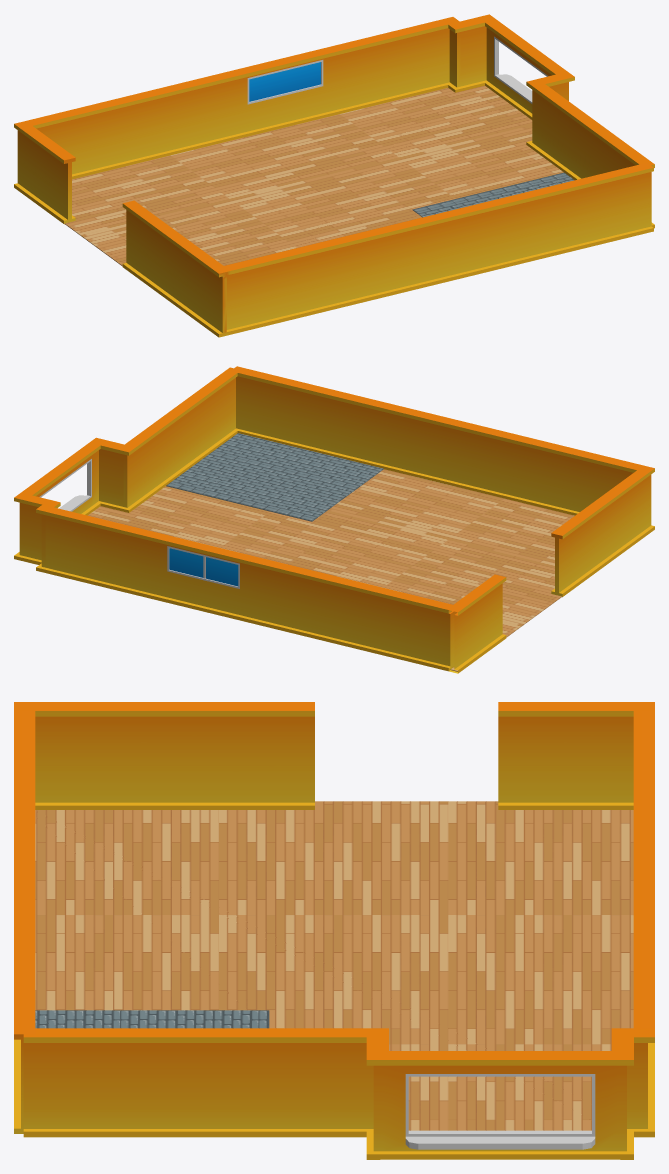
The model's file is Wall01.fbx.
3 renders of one model, top to bottom at view 1: azimuth 30°, elevation 25°; view 2: azimuth 150°, elevation 25°; view 3: azimuth 270°, elevation 25°, orthographic. The views are drawn at different scales.
Parts seen in each view (by area): view 1: polySurface2, polySurface1, Box001; view 2: polySurface2, polySurface1, Box001; view 3: polySurface2, polySurface1, Box001.
Part boxes in pixels (x1,y1,x2,y2): polySurface2: (14,14,654,337); polySurface1: (218,163,653,335); Box001: (412,172,574,217); polySurface2: (14,367,654,673); polySurface1: (231,366,648,515); Box001: (166,433,383,521); polySurface2: (14,702,654,1159); polySurface1: (14,706,35,1133); Box001: (35,1010,269,1028).
Bounding box in the file's own units: 6609 × 853 × 4944.
Materials: 3 (3 with a texture image).
